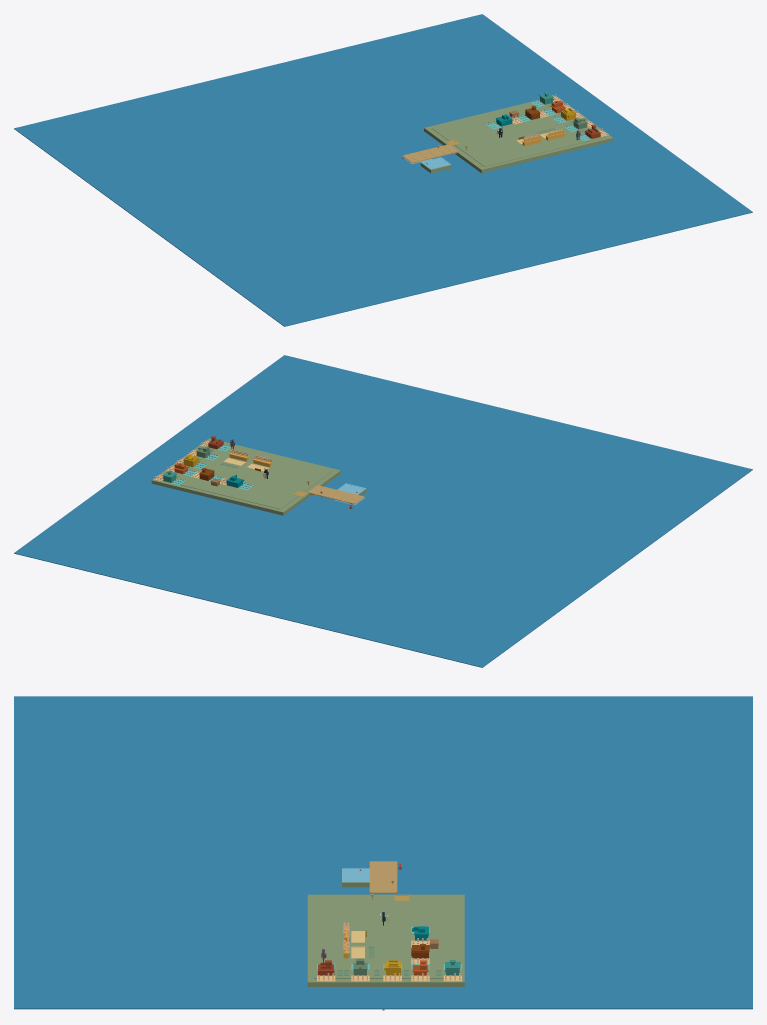
File: sunrise_pier_blockout.glb
3 renders of one model, top to bottom at view 1: azimuth 30°, elevation 25°; view 2: azimuth 150°, elevation 25°; view 3: azimuth 270°, elevation 25°, orthographic. The views are drawn at different scales.
Visible parts, largest first — view 1: Water, Ground_land, Pier; view 2: Water, Ground_land, Pier; view 3: Water, Ground_land, Pier.
Boxes of the visible parts, x1=… form: Water: x1=14, y1=14, x2=752, y2=326; Ground_land: x1=424, y1=95, x2=613, y2=173; Pier: x1=402, y1=144, x2=458, y2=163; Water: x1=14, y1=355, x2=752, y2=667; Ground_land: x1=151, y1=438, x2=340, y2=515; Pier: x1=308, y1=485, x2=364, y2=504; Water: x1=14, y1=696, x2=752, y2=1009; Ground_land: x1=307, y1=894, x2=464, y2=986; Pier: x1=369, y1=861, x2=397, y2=893.
Bounding box in the file's own units: 80 × 11.84 × 80.
